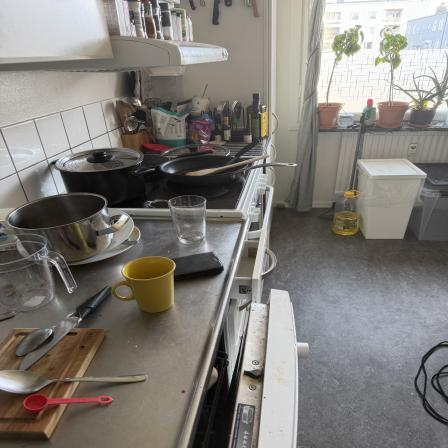phone: (140, 256, 230, 281)
yellow_cup: (112, 256, 177, 316)
